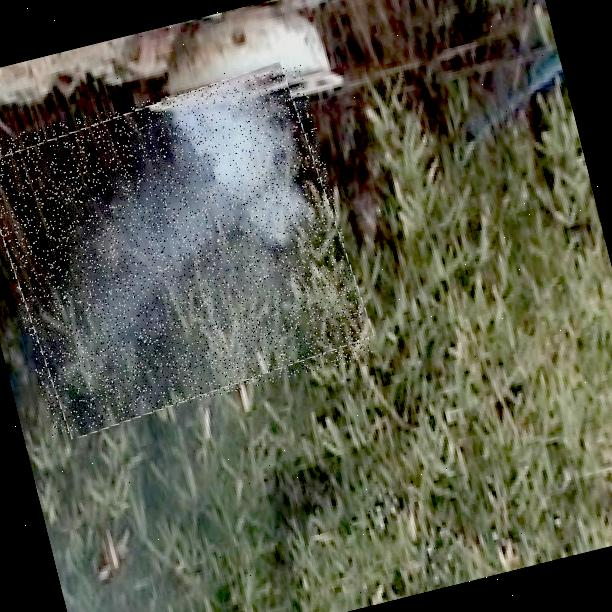smoke: (0, 62, 373, 436)
